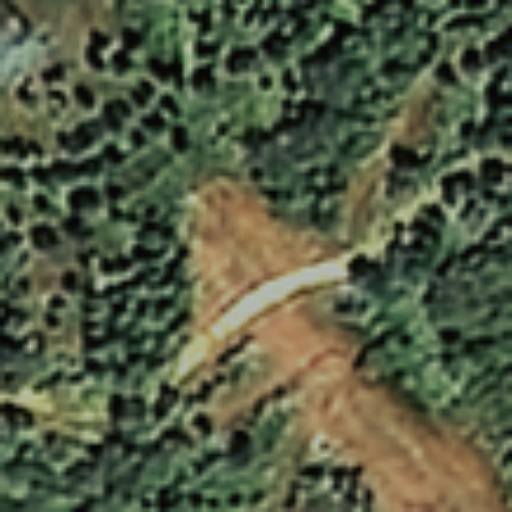landslide: (184, 176, 506, 506)
